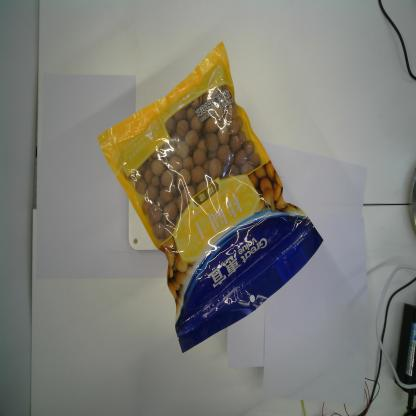Dried Food: (97, 39, 325, 355)
